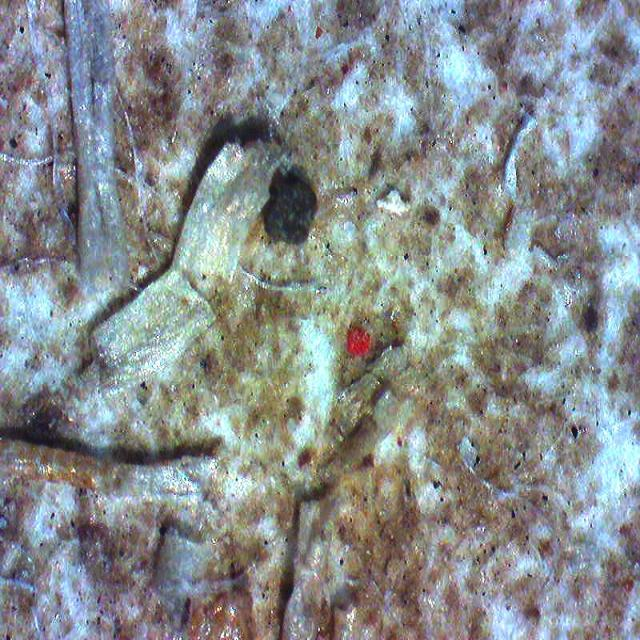microplastic: (349, 323, 373, 355)
